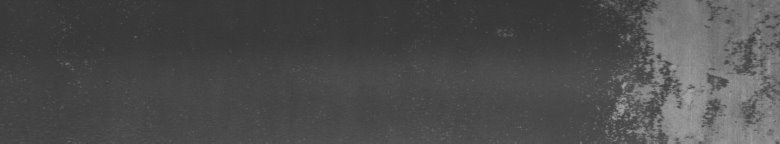kb: (588, 4, 776, 136)
